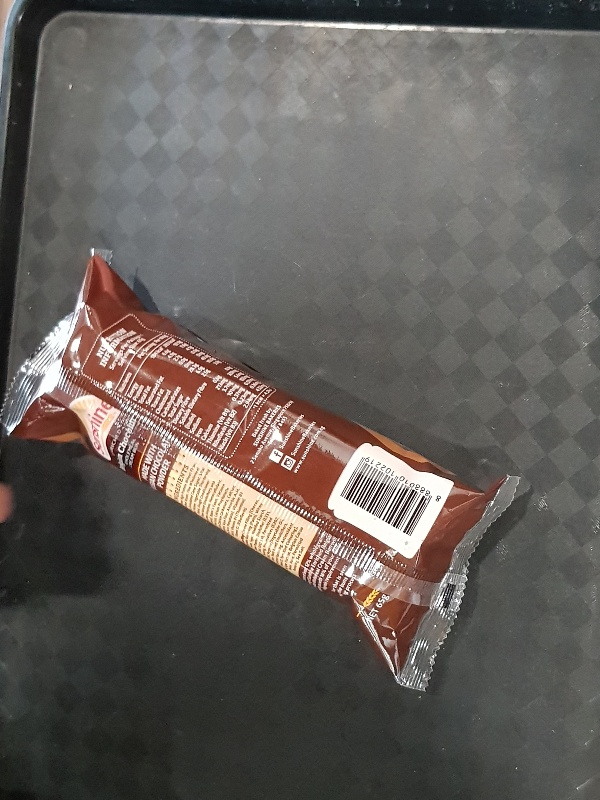Sunshine Belgium Chocolate Wholemeal Cream Bun: (2, 246, 523, 695)
